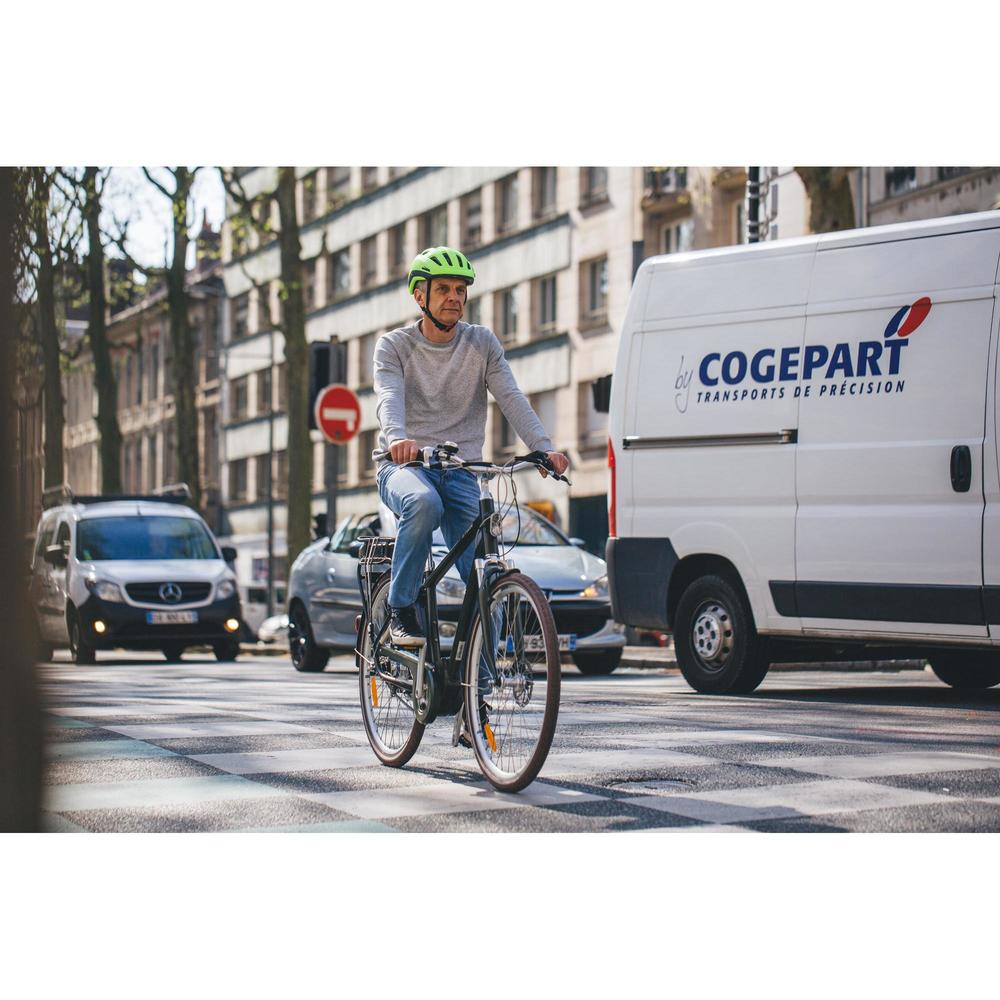UrbanBike: (341, 429, 581, 808)
